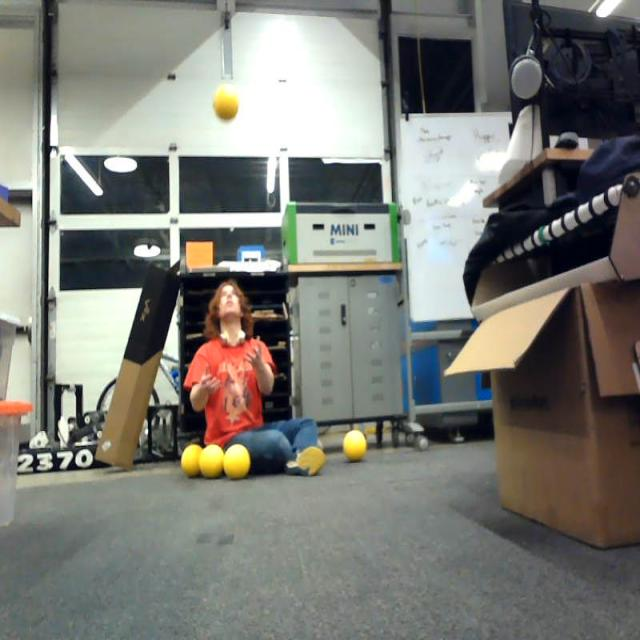Fuel: (213, 84, 239, 122), (223, 445, 250, 479), (200, 445, 225, 479), (181, 445, 205, 478), (344, 430, 366, 460)
